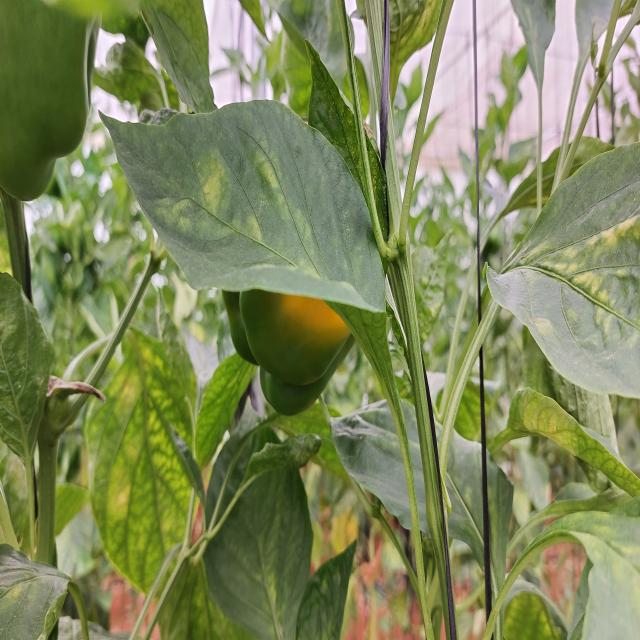GreenishYellow--Can-be-Harvested: (227, 177, 381, 428)
